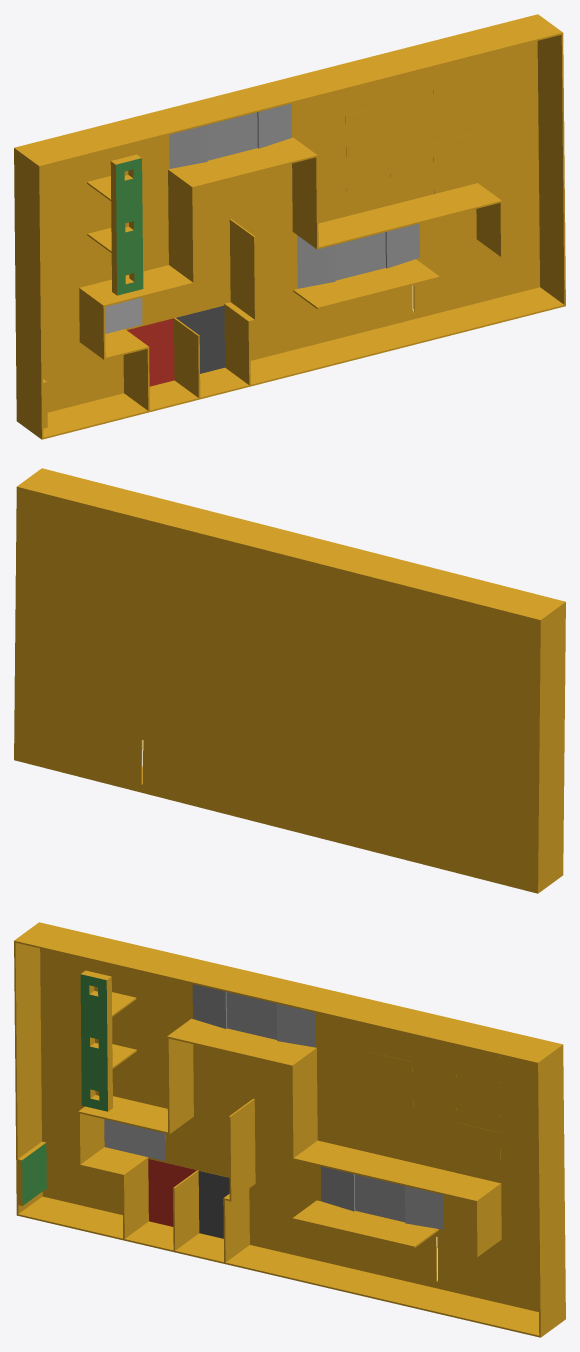
The model's file is gamefield_fixed.obj.
3 renders of one model, top to bottom at view 1: azimuth 30°, elevation 25°; view 2: azimuth 150°, elevation 25°; view 3: azimuth 330°, elevation 25°, orthographic.
Parts seen in each view (by area): view 1: Body1, Body1:2, Body1:1; view 2: Body1; view 3: Body1, Body1:2, Body1:1.
Part boxes in pixels (x1,y1,x2,y2): Body1: [14, 14, 565, 439]; Body1:2: [297, 223, 419, 288]; Body1:1: [169, 103, 291, 168]; Body1: [14, 468, 565, 893]; Body1: [14, 922, 565, 1337]; Body1:2: [320, 1166, 443, 1229]; Body1:1: [192, 984, 315, 1047].
Bounding box in the file's own units: 6.03 × 3.06 × 0.6.
